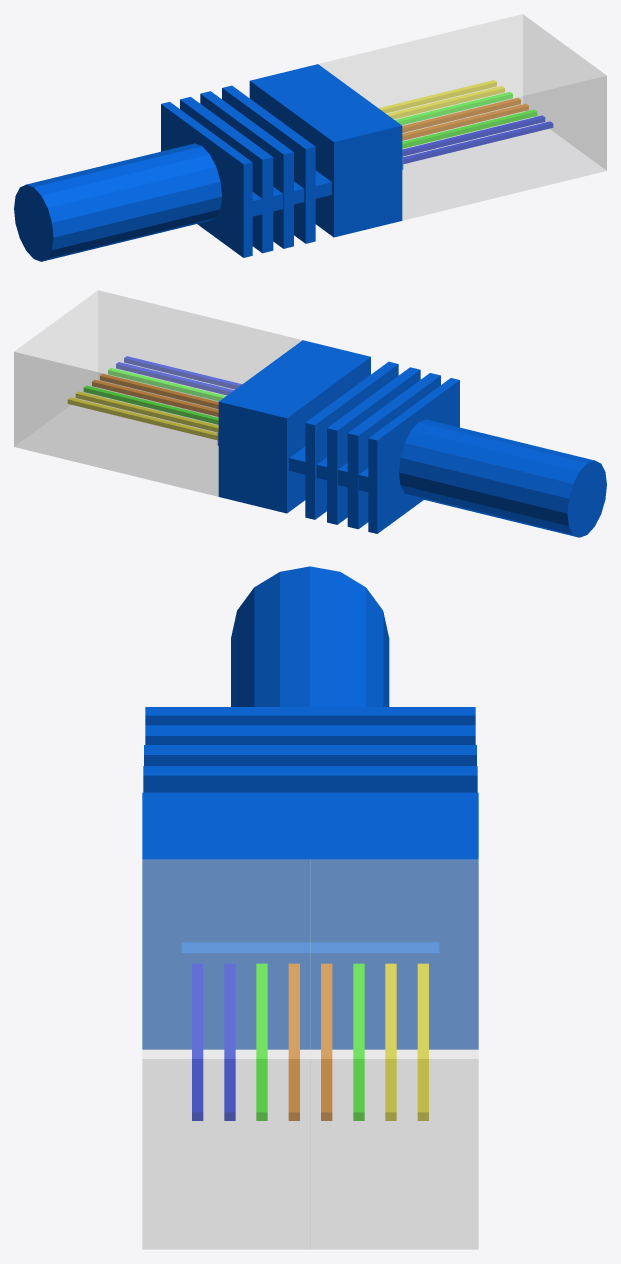
File: CabezaRJ45.fbx
The picture shows the model from 3 angles, top to bottom: view 1: azimuth 30°, elevation 25°; view 2: azimuth 150°, elevation 25°; view 3: azimuth 270°, elevation 25°; orthographic projection. The views are drawn at different scales.
Visible parts, largest first — view 1: Cylinder; view 2: Cylinder; view 3: Cylinder.
Boxes of the visible parts, left/top/right/bottom form: Cylinder: left=14, top=14, right=606, bottom=261; Cylinder: left=14, top=290, right=606, bottom=537; Cylinder: left=142, top=566, right=478, bottom=1249.
Size of the model in its own units: 175 by 30 by 48.
